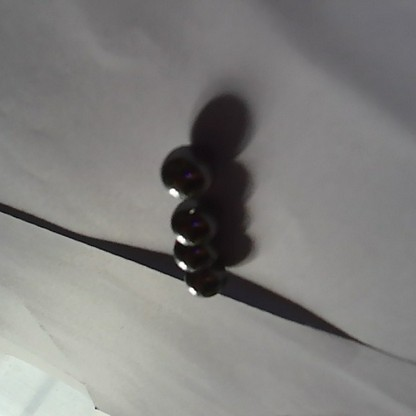ironball: (160, 144, 213, 196), (168, 199, 217, 243), (179, 269, 225, 299), (171, 241, 218, 269)
